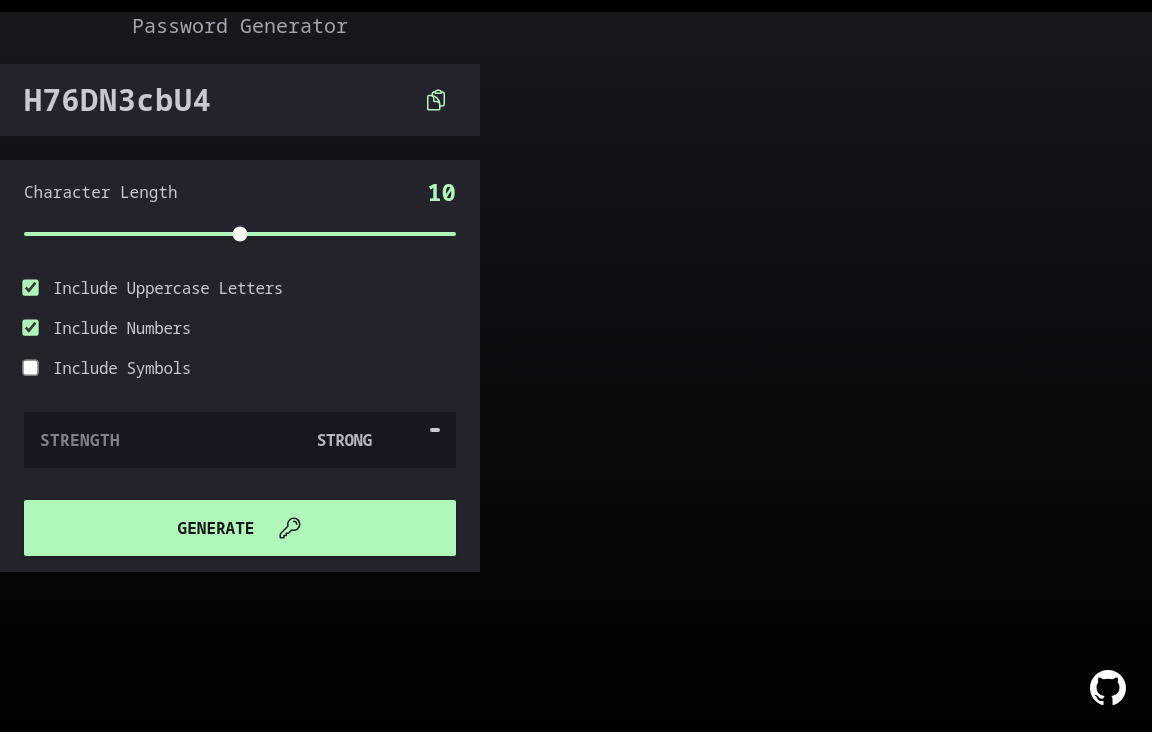
Test: PasswordGenerator alerts › Alert is rendered on clicking copy button
Click the button named "Copy to clipboard": x=436, y=100 x1=424 y1=88 x2=448 y2=112
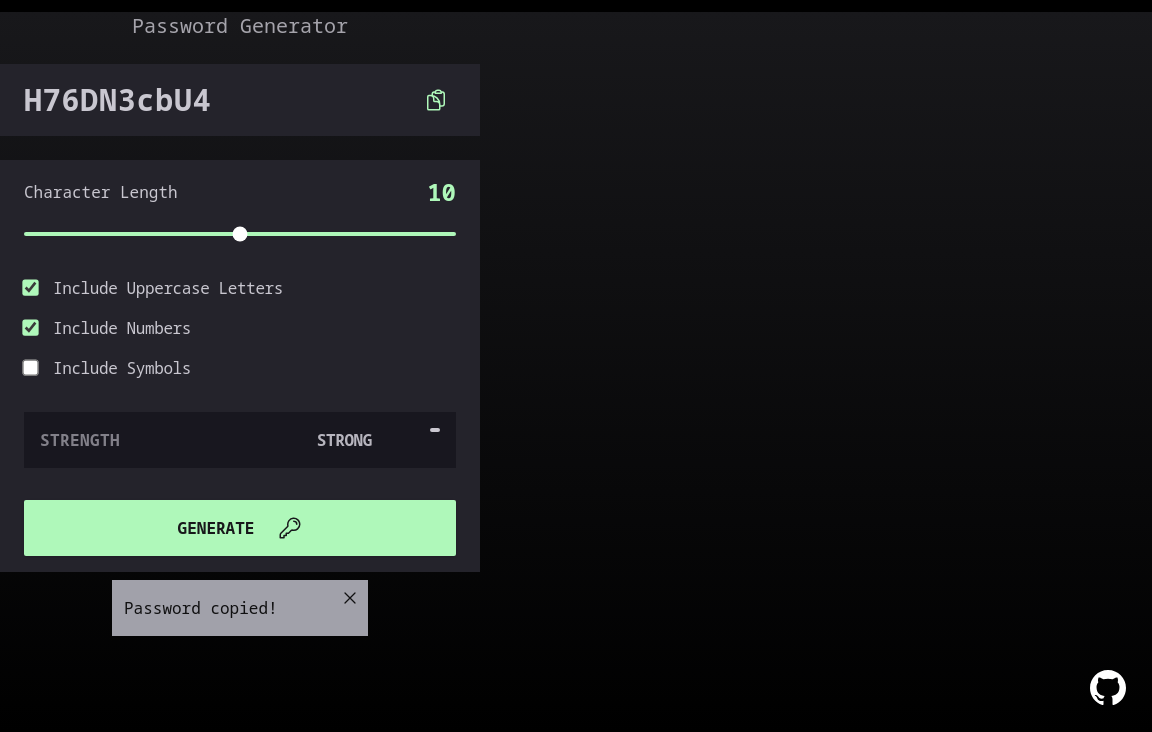
Expected: the message "Password copied!" is shown, x1=112 y1=580 x2=368 y2=636
